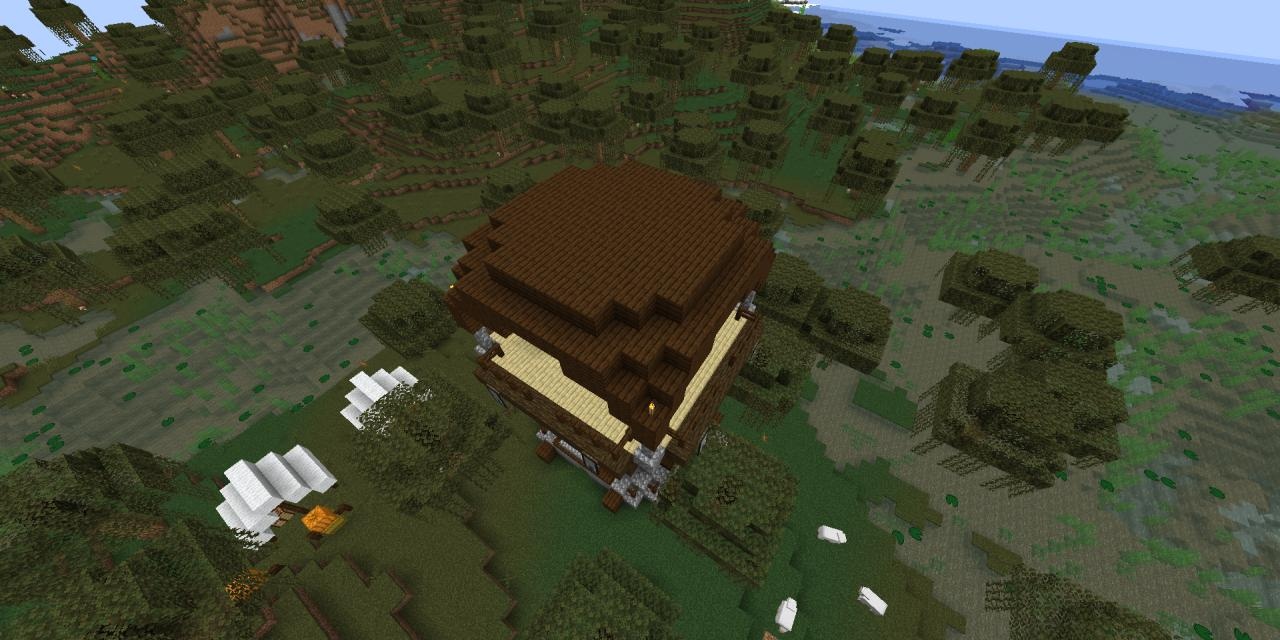pillager outpost: (436, 151, 780, 518)
